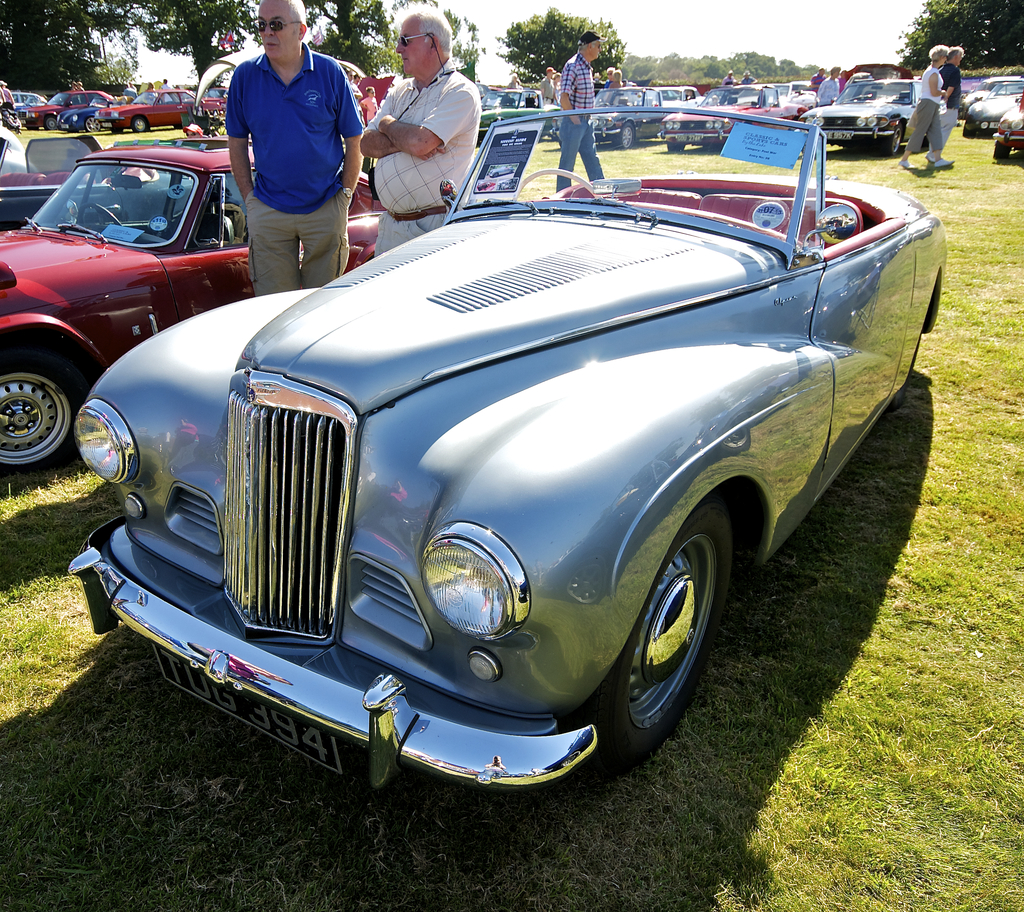Car: (0, 63, 1023, 791)
